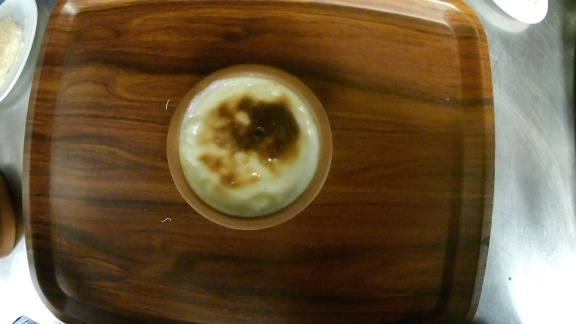sutlac: (165, 63, 335, 230)
